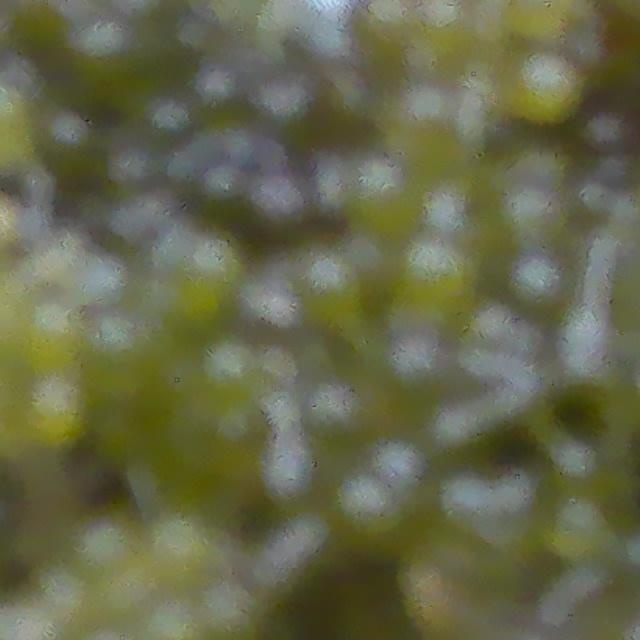SeaGrape: (239, 172, 323, 266), (346, 161, 423, 237), (18, 372, 88, 452), (387, 88, 468, 155), (147, 514, 221, 585), (509, 56, 584, 125), (404, 240, 470, 316), (250, 74, 317, 148), (9, 311, 93, 370), (344, 0, 417, 63), (406, 0, 473, 68), (68, 514, 133, 579), (295, 257, 361, 321), (92, 561, 153, 624), (28, 569, 91, 624)
